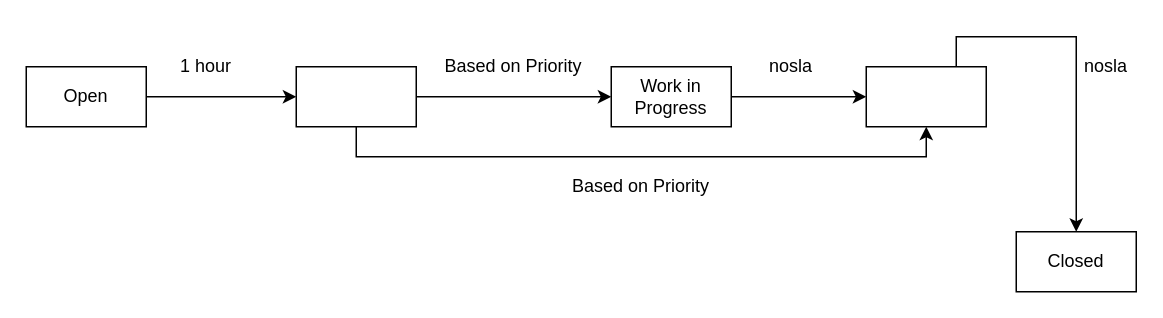
Some shapes in this 1163 by 318 pixel diagram are drawn without their labels. The box of each missing label's shape, as (x1, y1, x2, y2) in pixels:
ACK: (295, 65, 416, 127)
Resolved: (865, 65, 986, 127)
